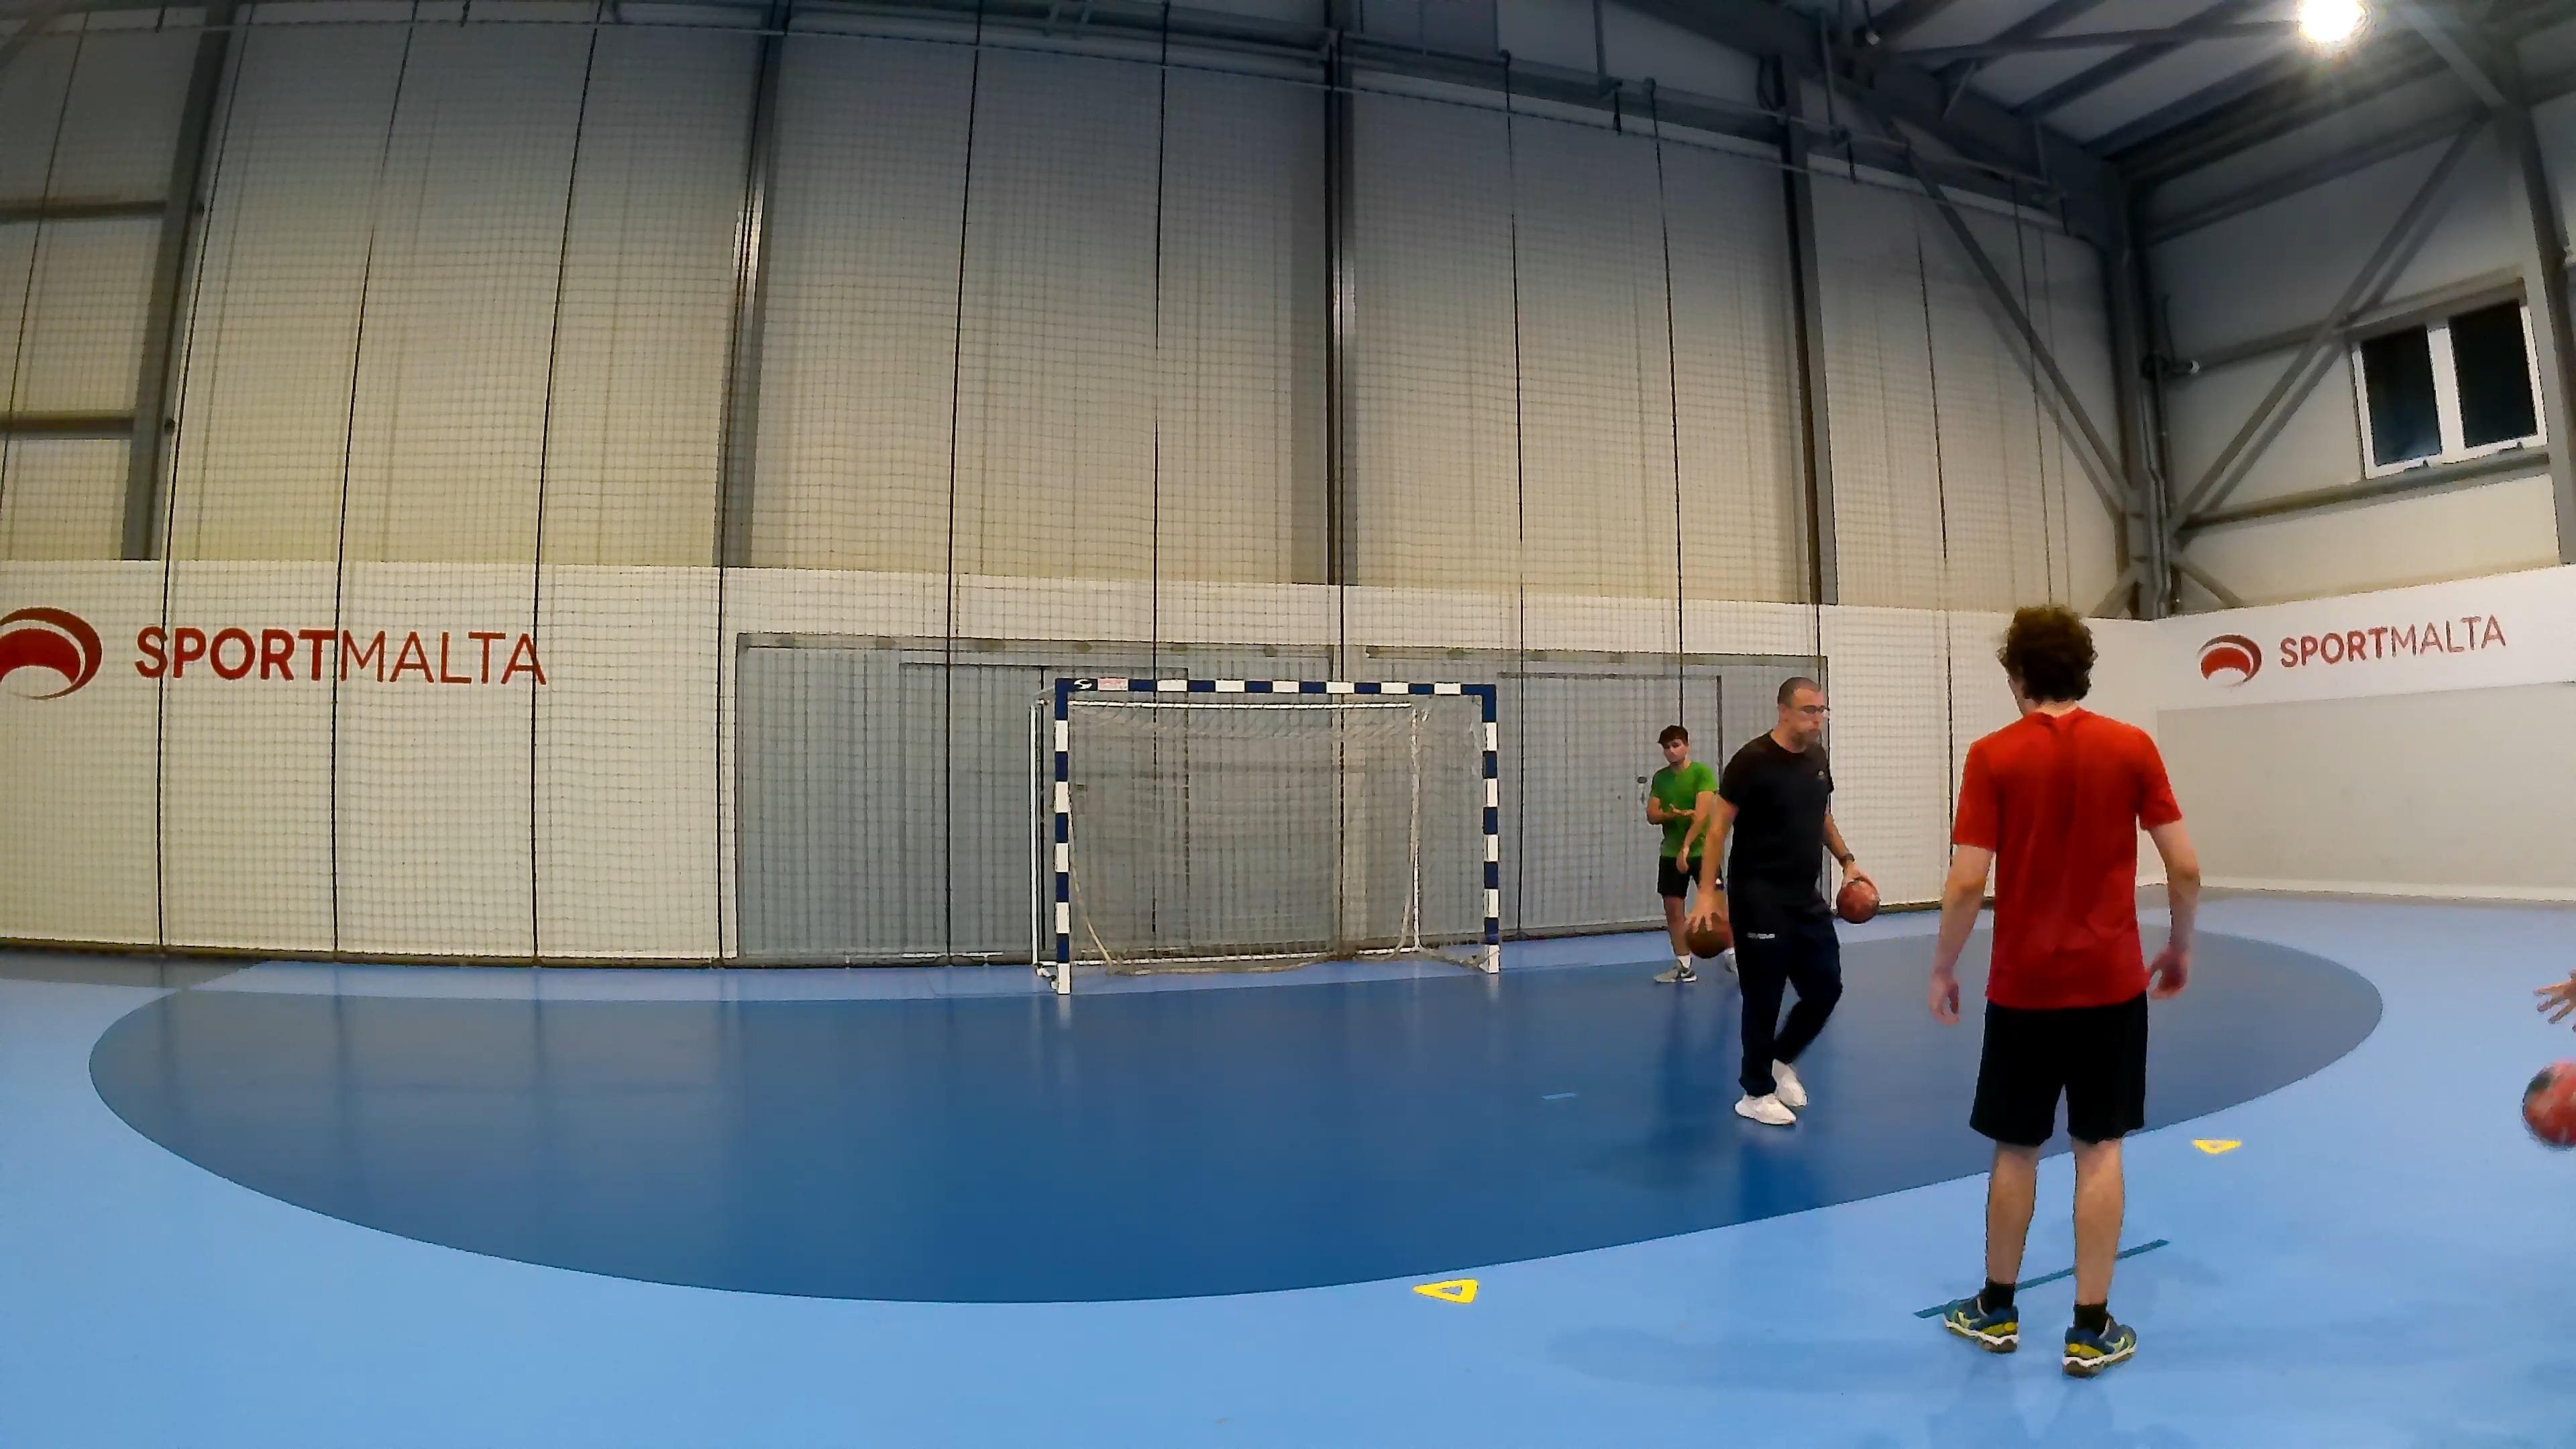handball: (2521, 1060, 2576, 1146), (1681, 911, 1732, 957), (1835, 876, 1879, 924)
